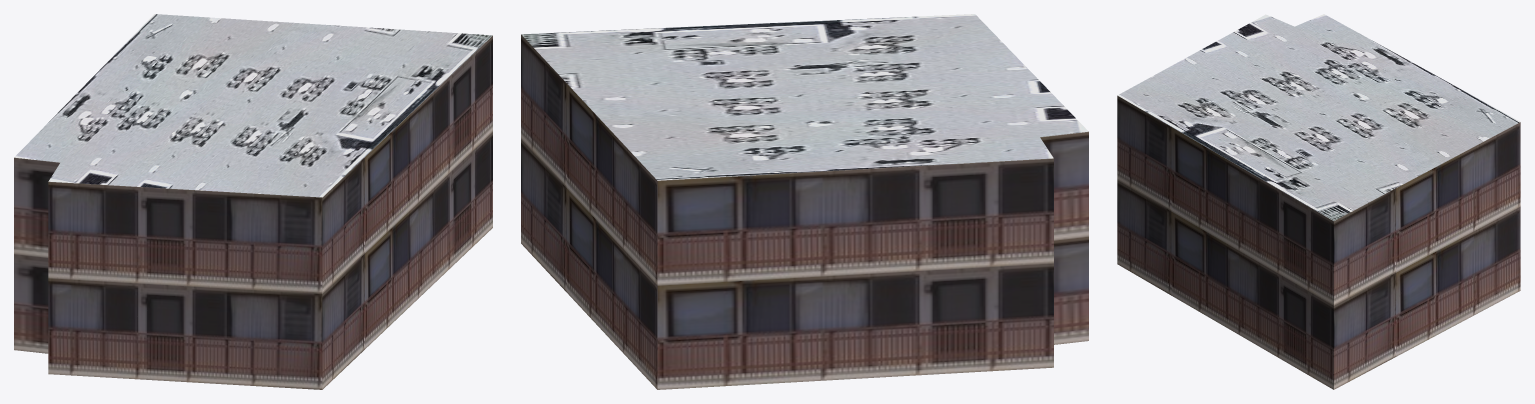
The model's file is ResTex__2942.fbx.
The picture shows the model from 3 angles, left to right: view 1: azimuth 30°, elevation 25°; view 2: azimuth 150°, elevation 25°; view 3: azimuth 270°, elevation 25°; orthographic projection. The views are drawn at different scales.
Visible parts, largest first — view 1: CityEngineMaterial_6_m, CityEngineMaterial_8_m; view 2: CityEngineMaterial_6_m, CityEngineMaterial_8_m; view 3: CityEngineMaterial_6_m, CityEngineMaterial_8_m.
Boxes of the visible parts, x1=… form: CityEngineMaterial_6_m: x1=14, y1=35, x2=492, y2=389; CityEngineMaterial_8_m: x1=14, y1=14, x2=492, y2=197; CityEngineMaterial_6_m: x1=521, y1=34, x2=1088, y2=389; CityEngineMaterial_8_m: x1=521, y1=14, x2=1088, y2=180; CityEngineMaterial_6_m: x1=1117, y1=95, x2=1520, y2=389; CityEngineMaterial_8_m: x1=1117, y1=14, x2=1519, y2=220.
Bounding box in the file's own units: 15.8 × 6 × 13.
2 materials, 2 textured.
